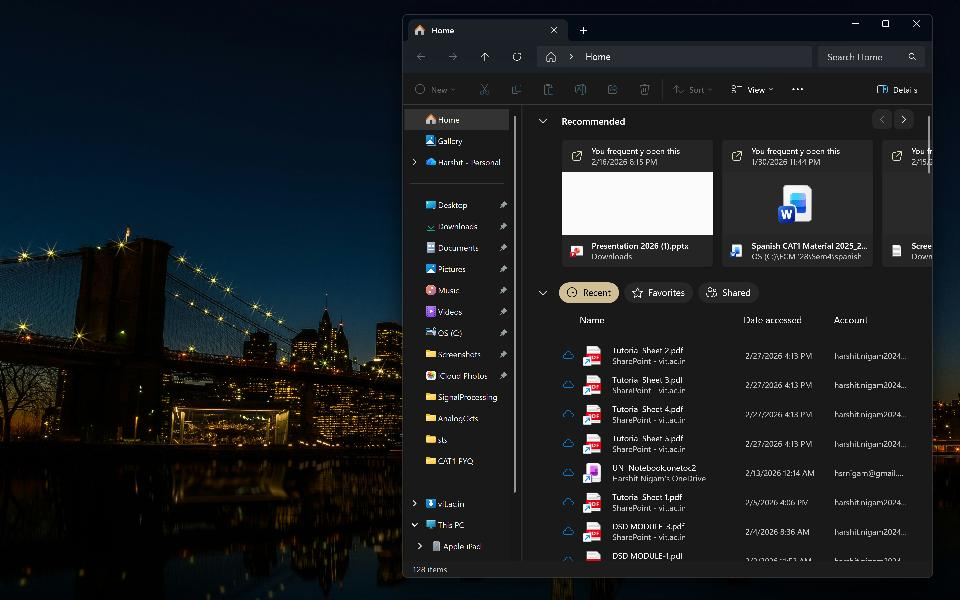close_button: (908, 16, 927, 32)
maximize_button: (876, 15, 896, 34)
minimize_button: (846, 16, 867, 36)
